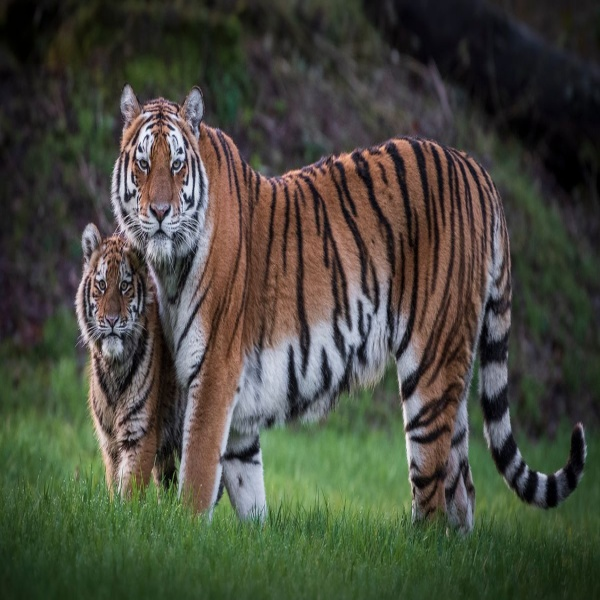Tiger: (108, 76, 592, 552), (71, 220, 196, 509)
